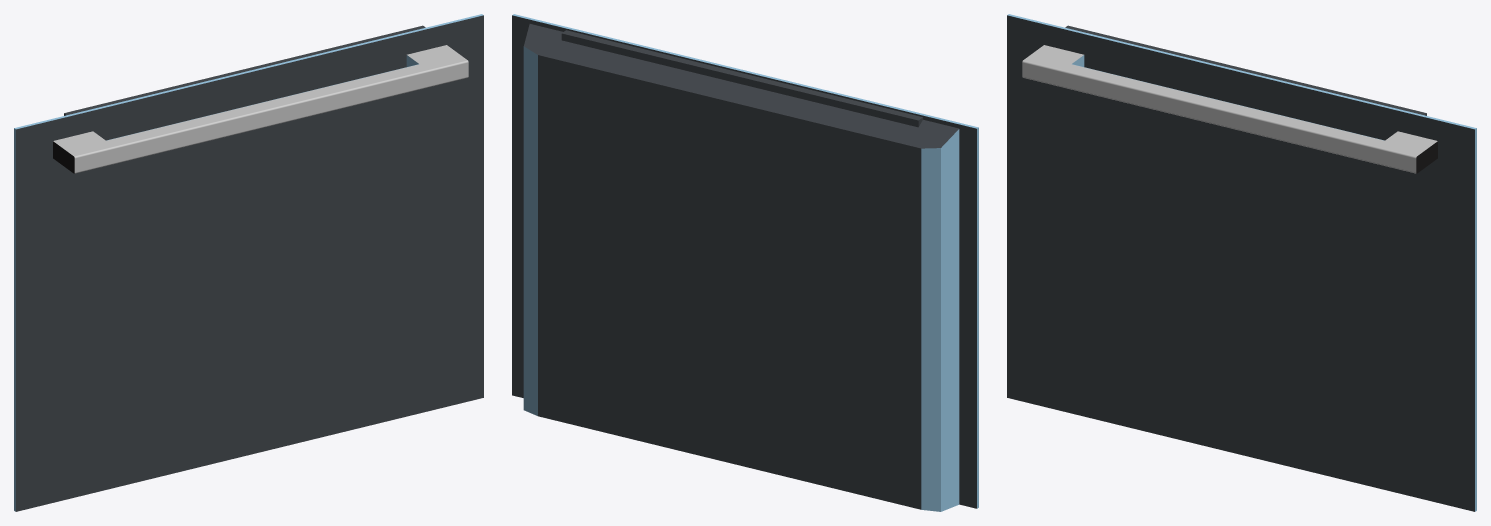
File: door_mesh.obj
3 renders of one model, left to right at view 1: azimuth 30°, elevation 25°; view 2: azimuth 150°, elevation 25°; view 3: azimuth 330°, elevation 25°, orthographic.
Parts seen in each view (by area): view 1: door_mesh_mesh23.001; view 2: door_mesh_mesh23.001; view 3: door_mesh_mesh23.001.
Part boxes in pixels (left/top/right/bottom): door_mesh_mesh23.001: left=14, top=14, right=483, bottom=511; door_mesh_mesh23.001: left=512, top=14, right=978, bottom=511; door_mesh_mesh23.001: left=1007, top=14, right=1476, bottom=511.
Size of the model in its own units: 0.594 by 0.464 by 0.085.
